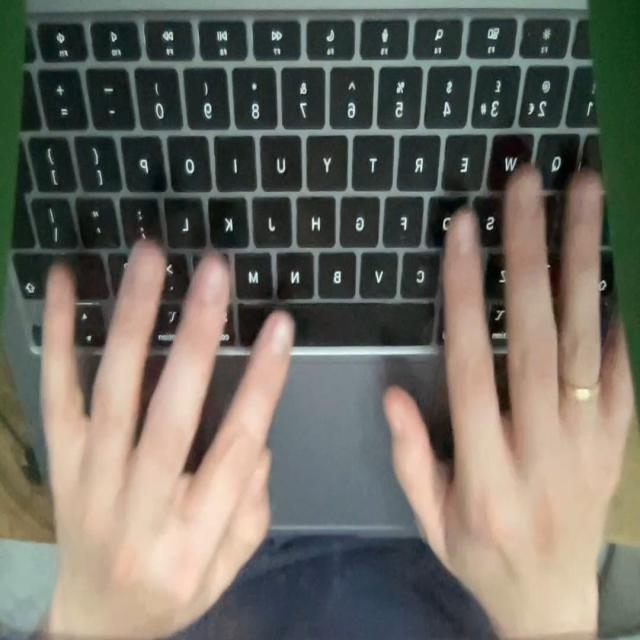keyboard-with-hands: (2, 0, 626, 538)
